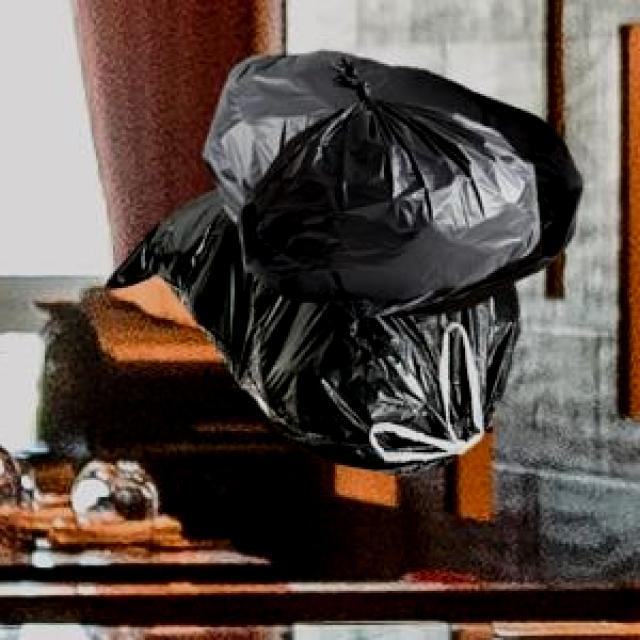Trashbag: (194, 45, 587, 310), (170, 284, 528, 465)
